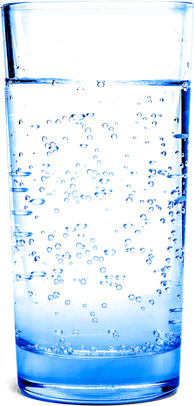glass of water: (12, 36, 179, 395)
